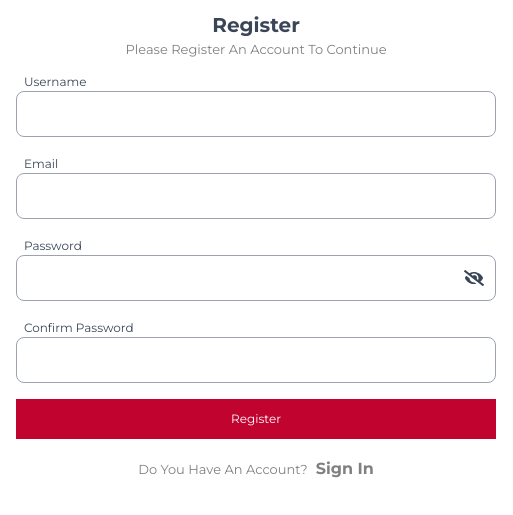
it: AuthFrom › Behavior › should display error message on submit with invalid email values
This screenshot has width=513, height=515.
In the field named "username": (256, 114) left=16, top=91, right=496, bottom=137, type "username"
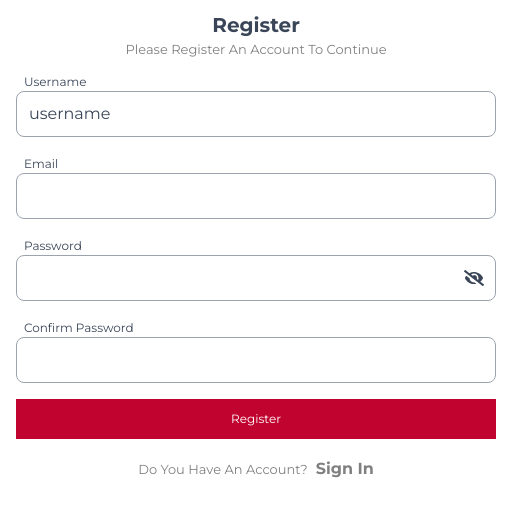
In the password field named "password": (256, 278) left=16, top=255, right=496, bottom=301, type "password"
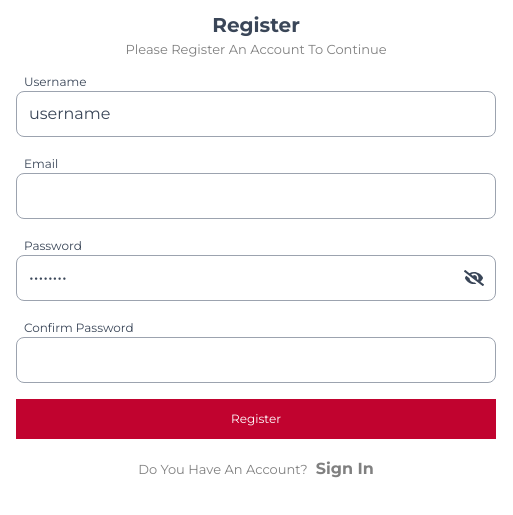
In the field named "confirm-password": (256, 360) left=16, top=337, right=496, bottom=383, type "password"
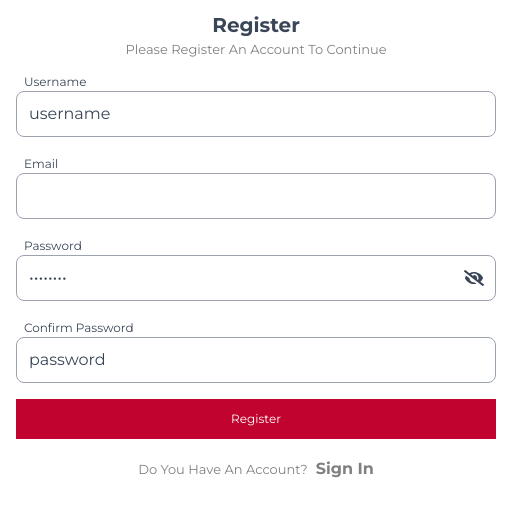
In the field named "email": (256, 196) left=16, top=173, right=496, bottom=219, type "tyler"
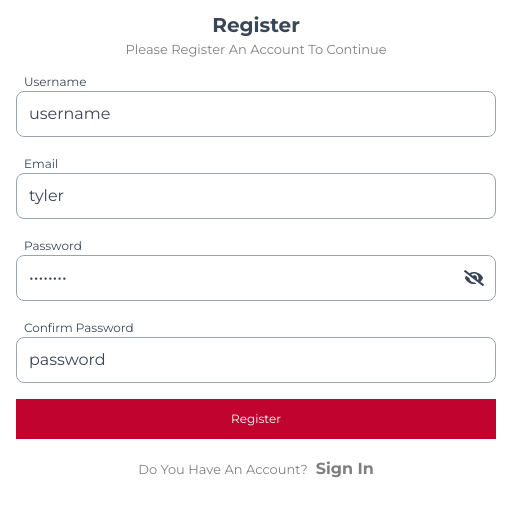
Click the button with aria-label "submit-button": (256, 419) left=16, top=399, right=496, bottom=439
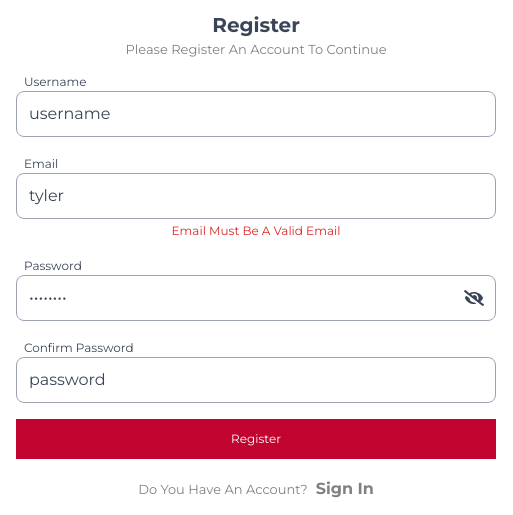
Expected: the message named "error-message" is shown, left=172, top=223, right=340, bottom=238
